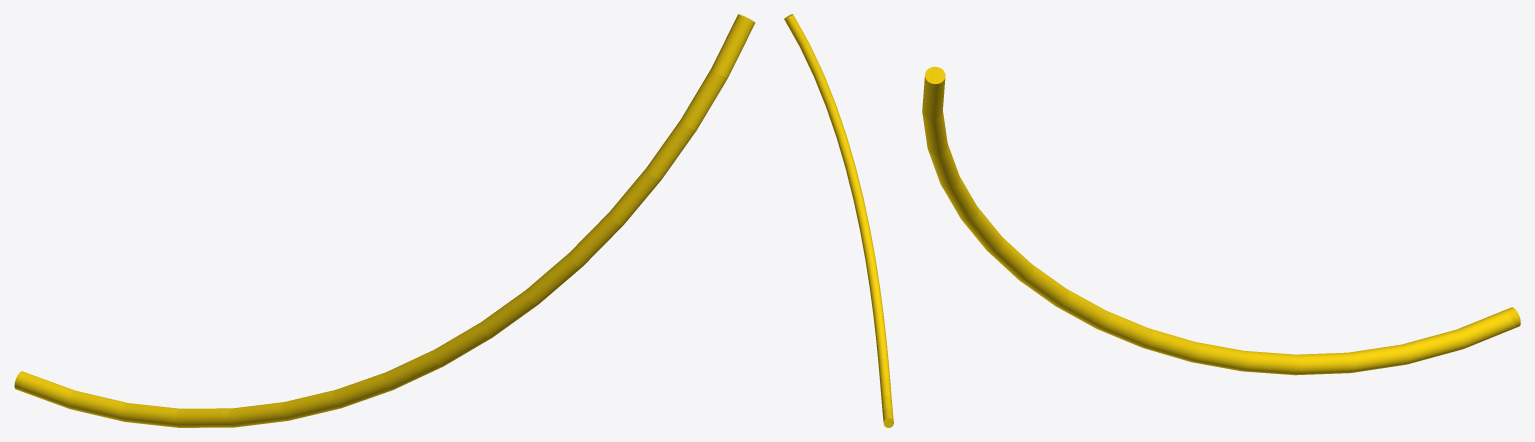
File: Event_420604493_track_12.fbx
3 views of the same model, side by side, from view 1: azimuth 30°, elevation 25°; view 2: azimuth 150°, elevation 25°; view 3: azimuth 270°, elevation 25° (orthographic). The views are drawn at different scales.
Parts seen in each view (by area): view 1: Model; view 2: Model; view 3: Model.
Part boxes in pixels (left/top/right/bottom): Model: left=14, top=14, right=755, bottom=427; Model: left=784, top=14, right=893, bottom=427; Model: left=922, top=66, right=1520, bottom=375.
Size of the model in its own units: 1.13 by 1.07 by 1.16.
